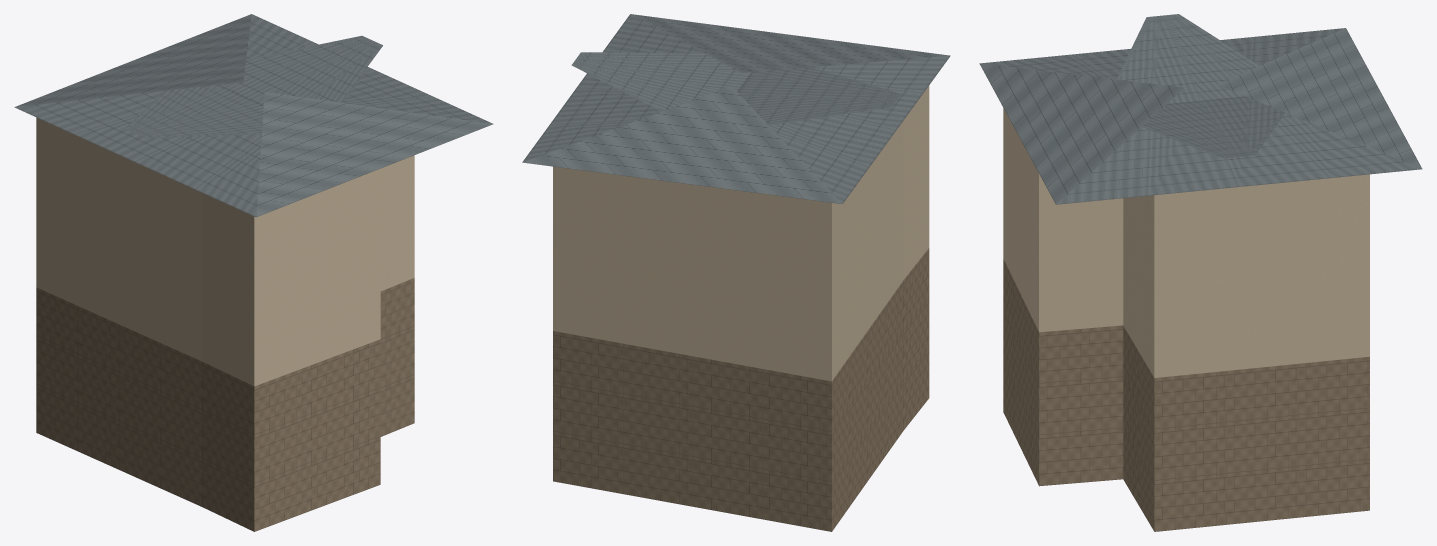
File: bld_c-10_40_514.gltf
3 renders of one model, left to right at view 1: azimuth 30°, elevation 25°; view 2: azimuth 150°, elevation 25°; view 3: azimuth 270°, elevation 25°, orthographic. The views are drawn at different scales.
Parts seen in each view (by area): view 1: bld_c-10_40_514; view 2: bld_c-10_40_514; view 3: bld_c-10_40_514.
Boxes of the visible parts, box(x1,y1,x2,y2) form: bld_c-10_40_514: box(14, 14, 493, 531); bld_c-10_40_514: box(522, 14, 950, 531); bld_c-10_40_514: box(979, 14, 1422, 531).
Bounding box in the file's own units: 12.56 × 12.4 × 13.31.
Materials: 3 (3 with a texture image).
